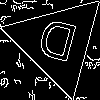D: (33, 17, 80, 72)
